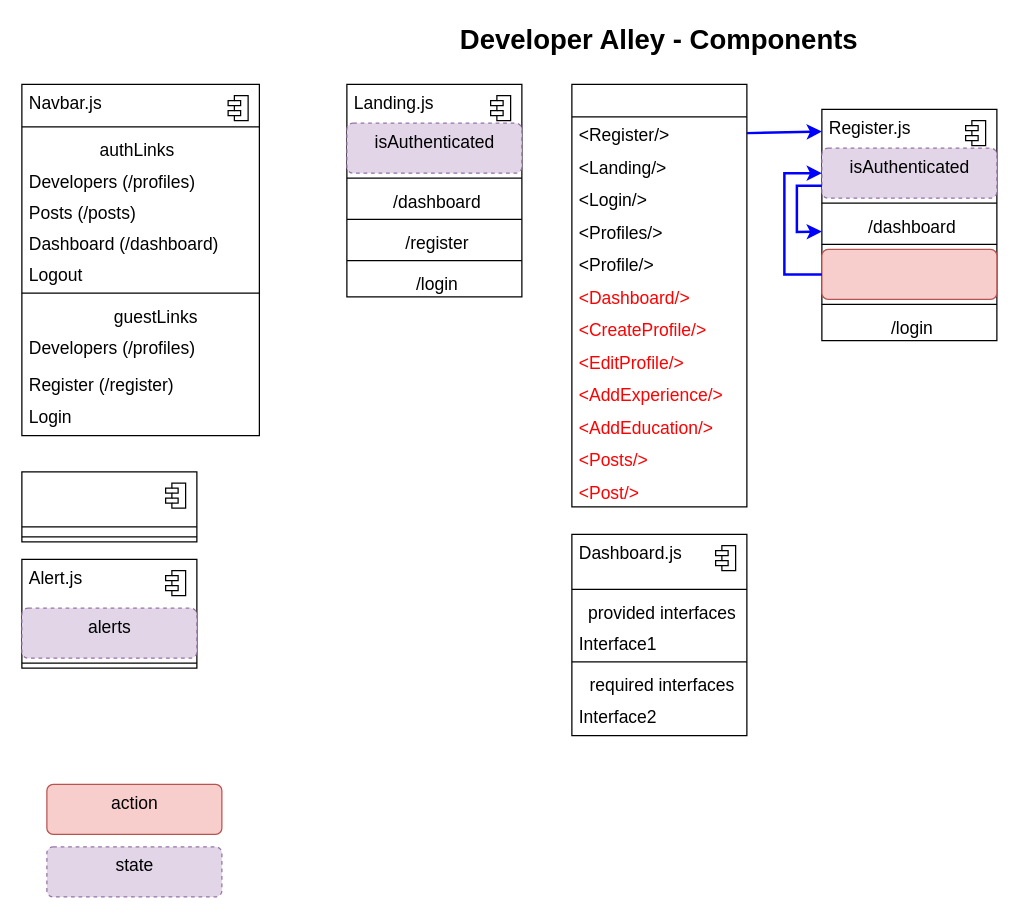
The diagram is 1019 pixels wide and 919 high, and some of its shapes have lost their labels. Here are the shapes that lost their labels. From the top down, the centre of each, then its label:
At [909,273]: "register (action)".
At [659,295]: "App.js".
At [109,506]: "Spinner.js".
